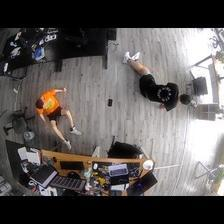fall: (121, 49, 191, 111), (32, 86, 84, 149)
